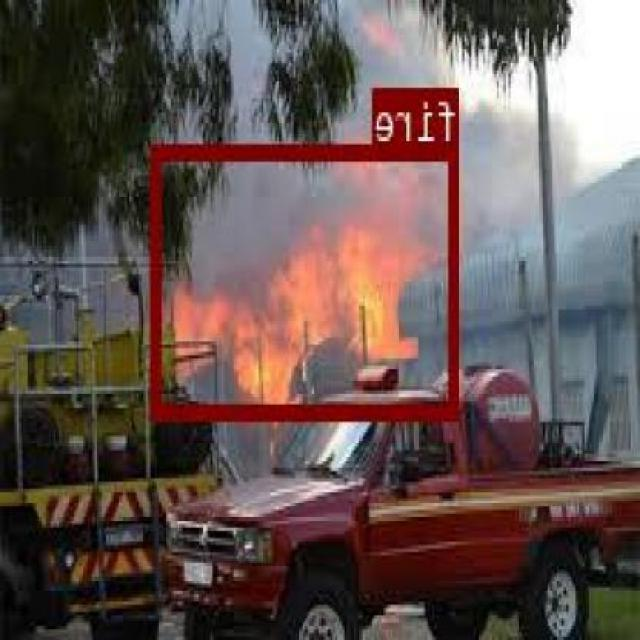Fire: (154, 144, 460, 418)
